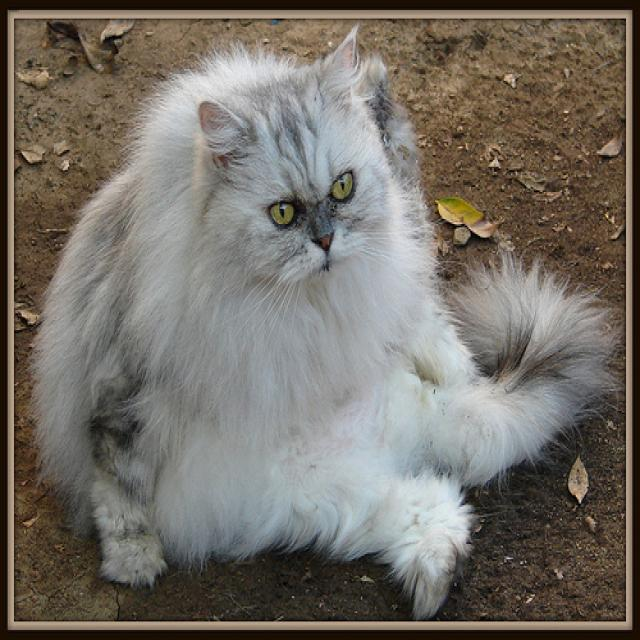Persian: (183, 21, 400, 310)
